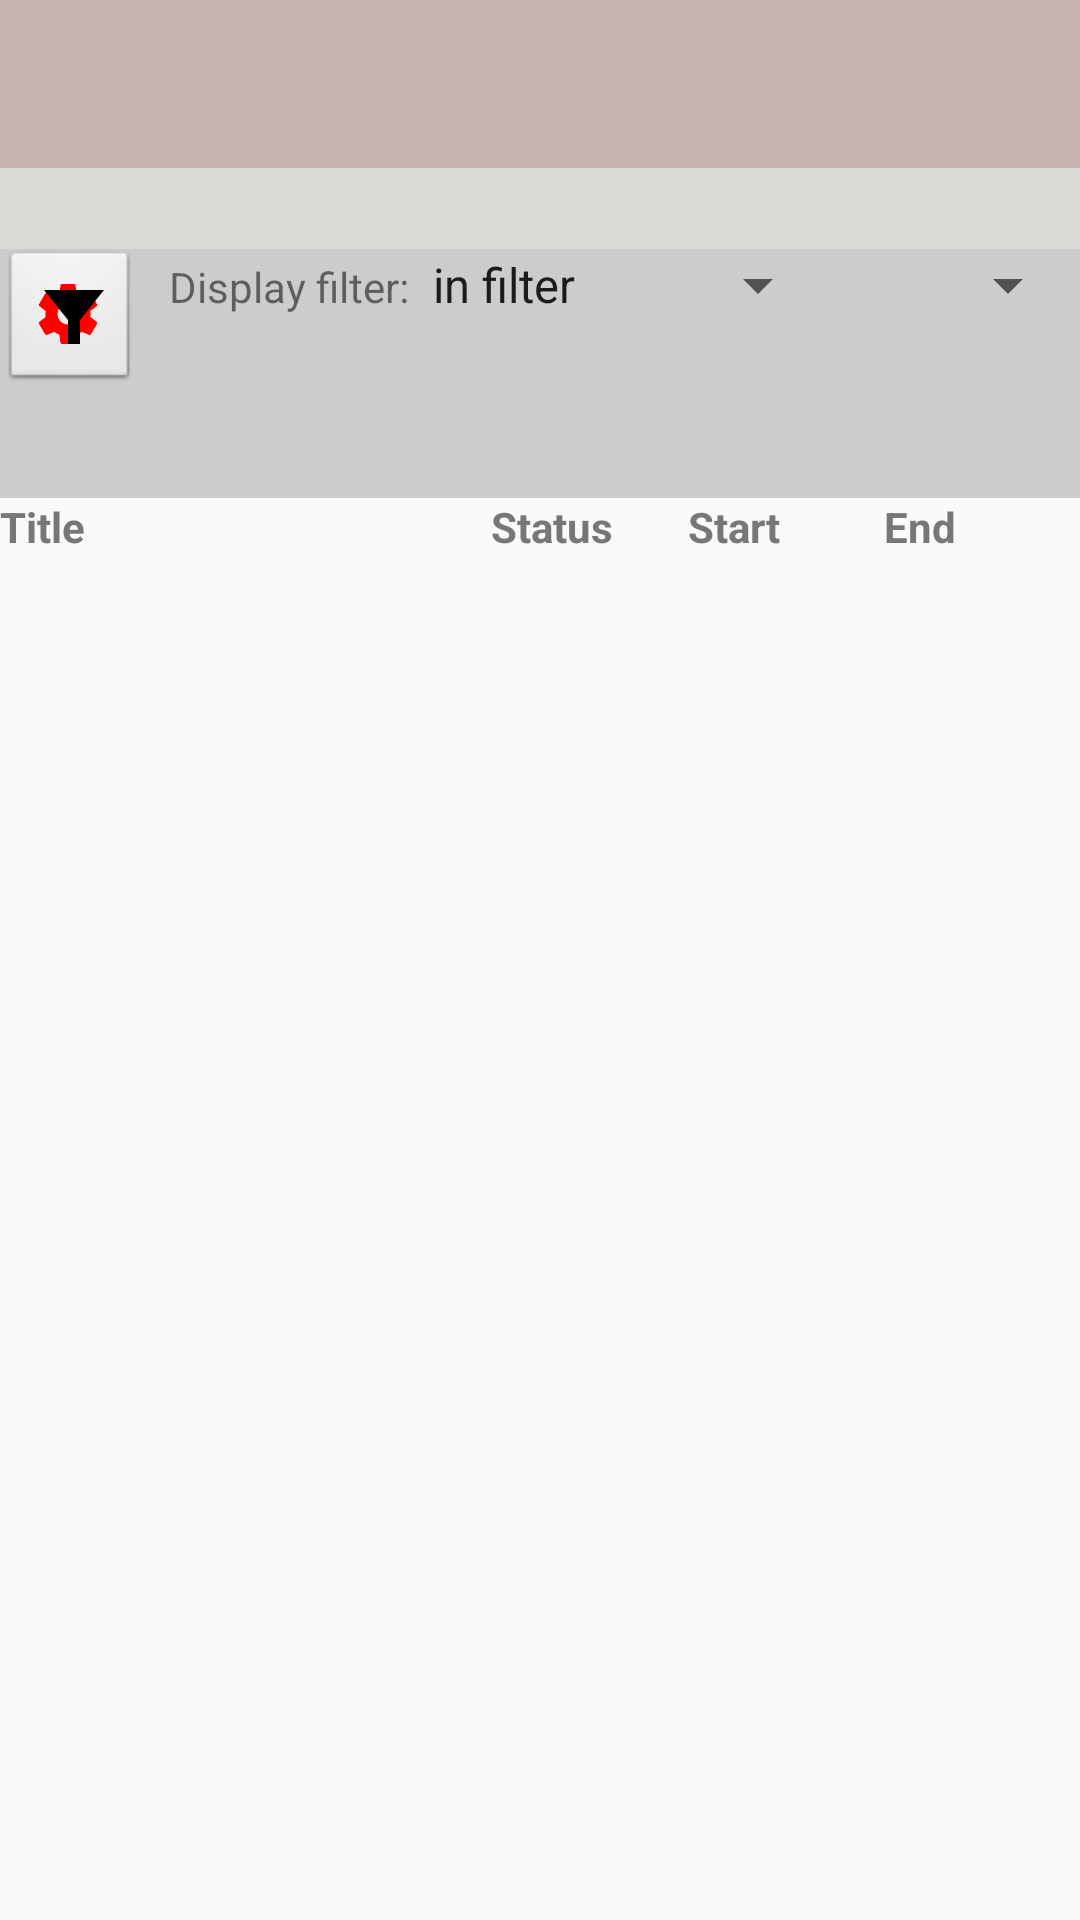

Icons on this 1080x1920 Android screen, each with the point to tap as (x,y):
Open filter settings: (69,316)
